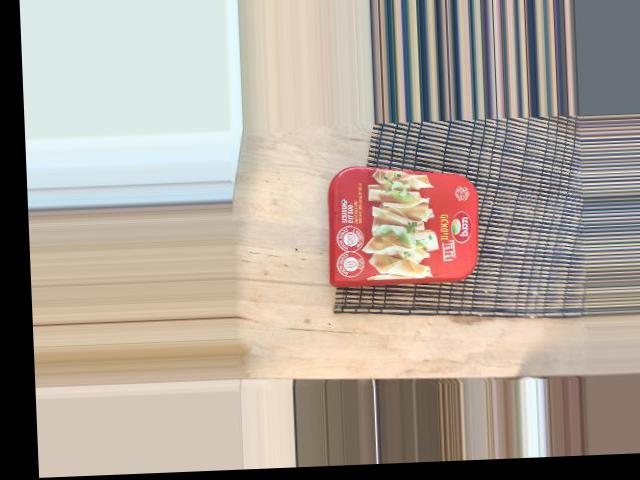cheese: (385, 118, 533, 278)
